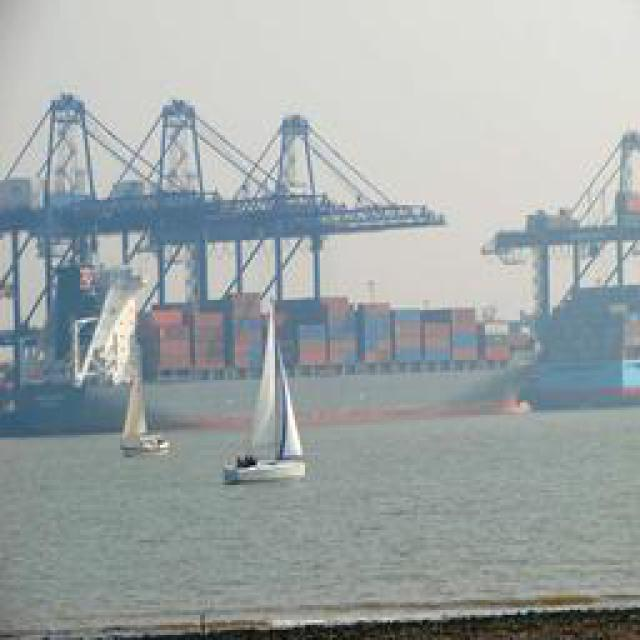Ship: (220, 290, 310, 488)
